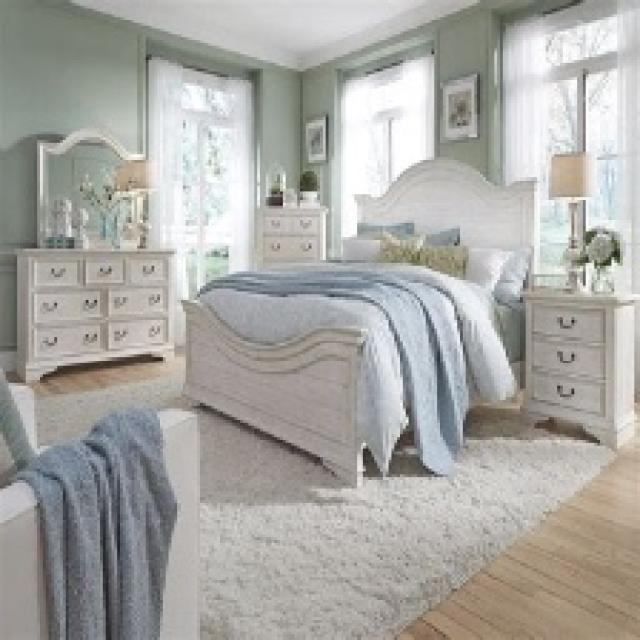Bed: (177, 154, 537, 486)
